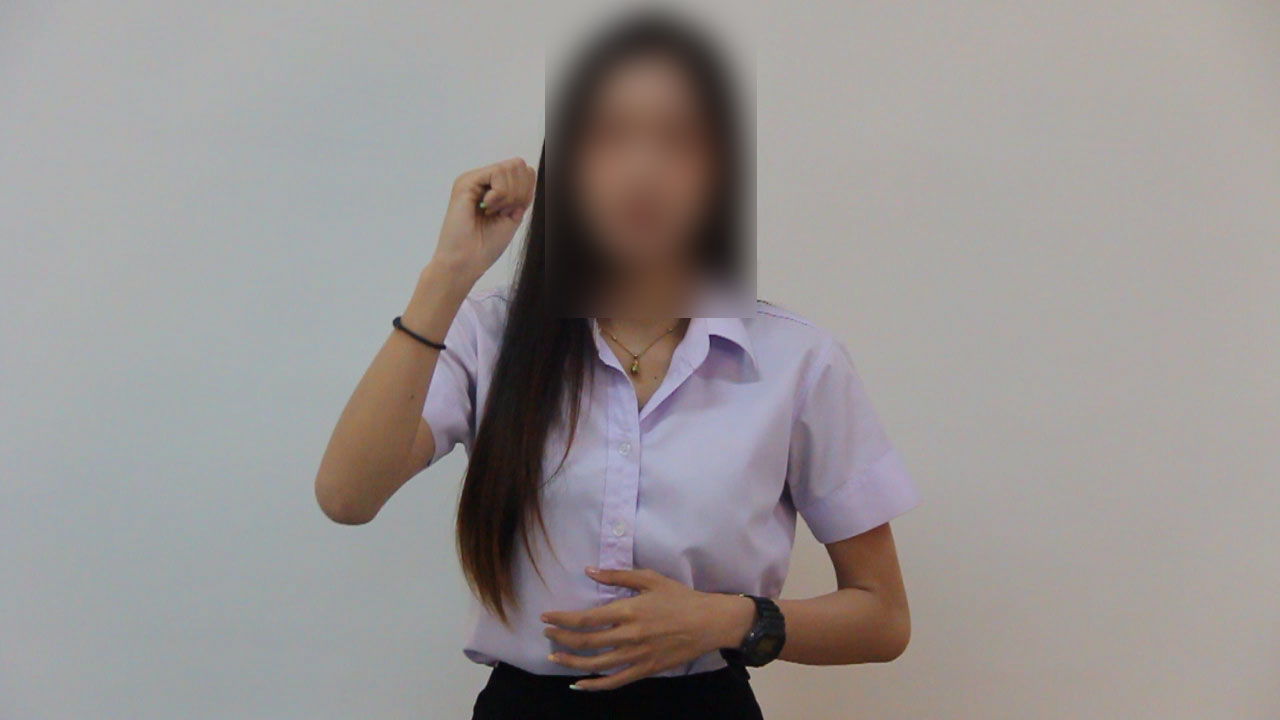sor: (414, 143, 545, 280)
